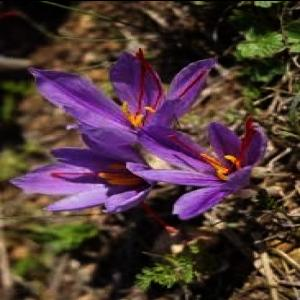Saffron: (29, 55, 192, 159), (134, 121, 264, 215), (8, 137, 148, 210)
